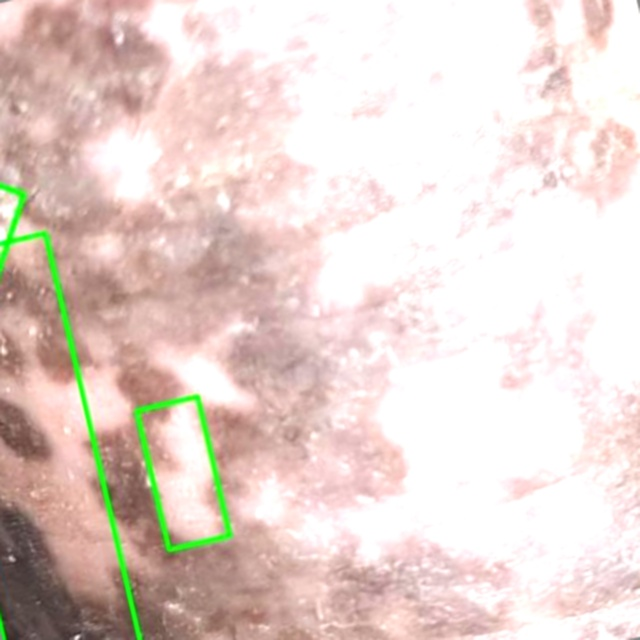Eczema: (136, 396, 229, 549)
